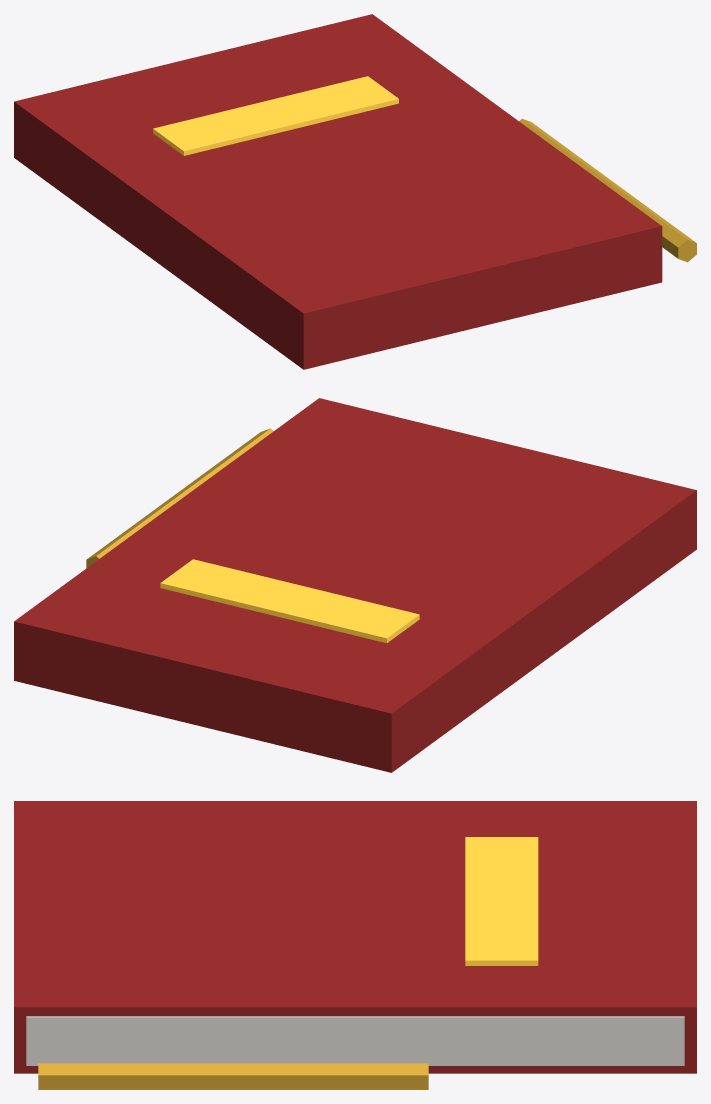
Rendered from guest_book.glb.
The picture shows the model from 3 angles, top to bottom: view 1: azimuth 30°, elevation 25°; view 2: azimuth 150°, elevation 25°; view 3: azimuth 270°, elevation 25°; orthographic projection. The views are drawn at different scales.
Parts seen in each view (by area): view 1: cover_guest_book_red, title_gold, pencil_tablita_pencil; view 2: cover_guest_book_red, title_gold, pencil_tablita_pencil; view 3: cover_guest_book_red, pages_white, pencil_tablita_pencil, title_gold.
Part boxes in pixels (x1,y1,x2,y2): cover_guest_book_red: [14, 14, 662, 369]; title_gold: [153, 76, 398, 155]; pencil_tablita_pencil: [519, 118, 696, 262]; cover_guest_book_red: [14, 398, 696, 772]; title_gold: [160, 559, 419, 643]; pencil_tablita_pencil: [86, 428, 273, 568]; cover_guest_book_red: [14, 801, 696, 1073]; pages_white: [26, 1016, 684, 1065]; pencil_tablita_pencil: [38, 1063, 428, 1089]; title_gold: [465, 837, 538, 965].
Bounding box in the file's own units: 0.2252 × 0.0325 × 0.28.
